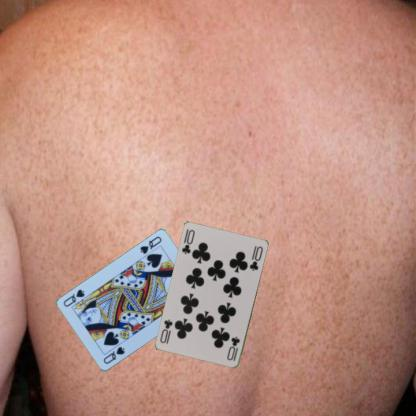10c: (179, 227, 196, 256), (225, 334, 241, 362)
Qs: (100, 344, 126, 366), (137, 234, 163, 255)
